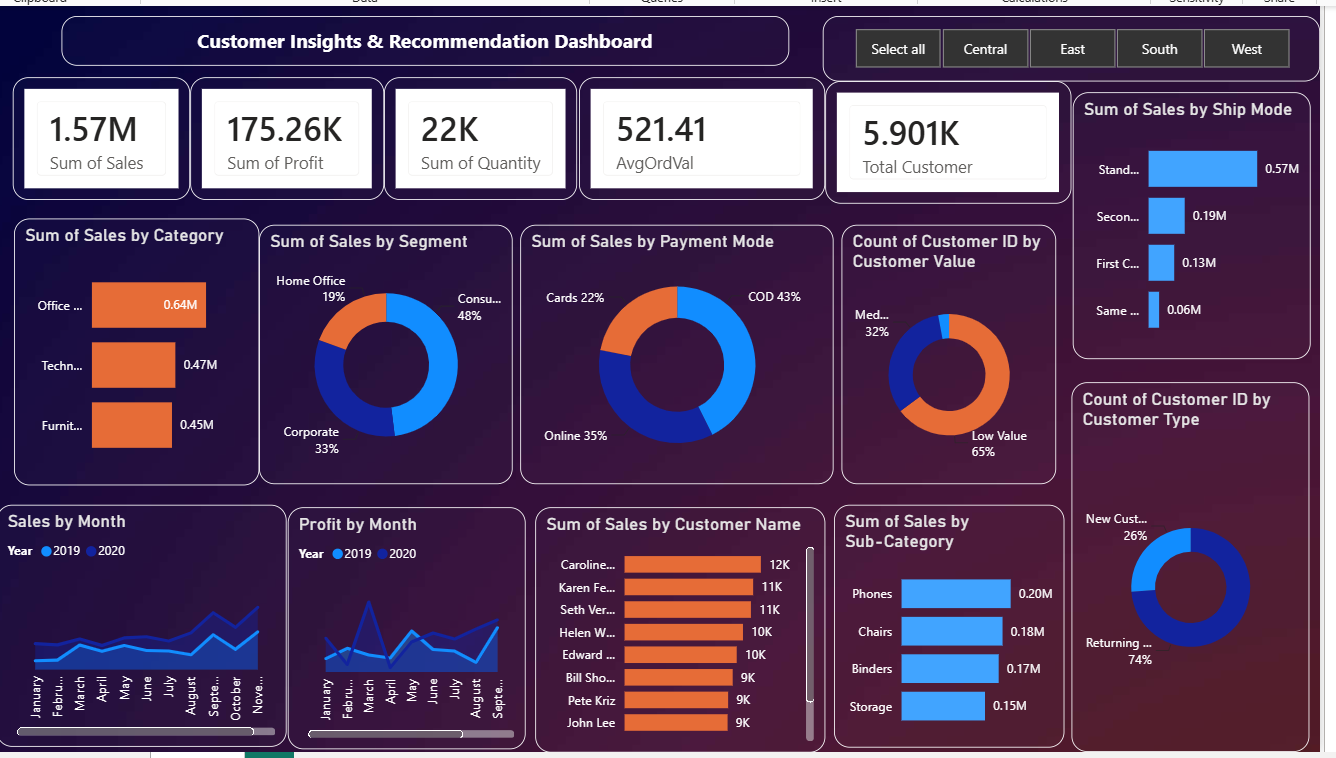

This screenshot's page, from the dashboard's own definition file:
{"tool":"powerbi","page":{"name":"Page 1","canvas":[1280,720],"ordinal":0},"visuals":[{"type":"clusteredBarChart","fields":{"Category":["SuperStore_Sales_Dataset.Category"],"Y":["Sum(SuperStore_Sales_Dataset.Sales)"]},"box":[19.6,204.5,236.7,257.7],"z":0},{"type":"clusteredBarChart","fields":{"Category":["SuperStore_Sales_Dataset.Sub-Category"],"Y":["Sum(SuperStore_Sales_Dataset.Sales)"]},"box":[811,481.6,222.3,234.6],"z":1000},{"type":"clusteredBarChart","fields":{"Category":["SuperStore_Sales_Dataset.Ship Mode"],"Y":["Sum(SuperStore_Sales_Dataset.Sales)"]},"box":[1040.8,82.6,229.7,257.7],"z":2000},{"type":"areaChart","title":" Sales by Month","fields":{"Y":["Sum(SuperStore_Sales_Dataset.Sales)"],"Category":["SuperStore_Sales_Dataset.Order Date.Variation.Date Hierarchy.Month","SuperStore_Sales_Dataset.Order Date.Variation.Date Hierarchy.Day"],"Series":["SuperStore_Sales_Dataset.Order Date.Variation.Date Hierarchy.Year"]},"box":[2.8,481.9,280.1,233.9],"z":3000},{"type":"areaChart","title":"Profit by Month ","fields":{"Category":["SuperStore_Sales_Dataset.Order Date.Variation.Date Hierarchy.Month","SuperStore_Sales_Dataset.Order Date.Variation.Date Hierarchy.Day"],"Series":["SuperStore_Sales_Dataset.Order Date.Variation.Date Hierarchy.Year"],"Y":["Sum(SuperStore_Sales_Dataset.Profit)"]},"box":[283,483.3,229.7,233.9],"z":4000},{"type":"donutChart","fields":{"Category":["SuperStore_Sales_Dataset.Segment"],"Y":["Sum(SuperStore_Sales_Dataset.Sales)"]},"box":[256.3,211.5,245.1,250.7],"z":5000},{"type":"donutChart","fields":{"Category":["SuperStore_Sales_Dataset.Payment Mode"],"Y":["Sum(SuperStore_Sales_Dataset.Sales)"]},"box":[508.5,211.5,302.6,250.7],"z":6000},{"type":"slicer","fields":{"Values":["SuperStore_Sales_Dataset.Region"]},"box":[800,9.6,480.3,63.1],"z":7000},{"type":"cardVisual","fields":{"Data":["Sum(SuperStore_Sales_Dataset.Sales)"]},"box":[18.1,68.8,171.3,118.2],"z":8000},{"type":"cardVisual","fields":{"Data":["Sum(SuperStore_Sales_Dataset.Profit)"]},"box":[189.4,68.8,187,118.2],"z":9000},{"type":"cardVisual","fields":{"Data":["Sum(SuperStore_Sales_Dataset.Quantity)"]},"box":[376,68.6,186.6,118],"z":10000},{"type":"cardVisual","fields":{"Data":["SuperStore_Sales_Dataset.AvgOrdVal"]},"box":[564.6,68.8,237.7,118.2],"z":11000},{"type":"cardVisual","fields":{"Data":["CountNonNull(SuperStore_Sales_Dataset.Customer Name)"]},"box":[802.7,72.7,237.4,118],"z":12000},{"type":"donutChart","fields":{"Category":["SuperStore_Sales_Dataset.Customer Type"],"Y":["CountNonNull(SuperStore_Sales_Dataset.Customer ID)"]},"box":[1039.4,362.8,229.7,357.2],"z":13000},{"type":"donutChart","fields":{"Category":["SuperStore_Sales_Dataset.Customer Value"],"Y":["CountNonNull(SuperStore_Sales_Dataset.Customer ID)"]},"box":[818,211.5,207.3,250.7],"z":13001},{"type":"clusteredBarChart","fields":{"Category":["SuperStore_Sales_Dataset.Customer Name"],"Y":["Sum(SuperStore_Sales_Dataset.Sales)"]},"box":[522.5,483.3,280.1,236.7],"z":13002},{"type":"textbox","box":[65.1,9.7,702.1,48.3],"z":13003}]}

Visuals, with their boxes in screenshot pixels (x1, y1, x2, y2):
clusteredBarChart - SuperStore_Sales_Dataset.Category x Sum(SuperStore_Sales_Dataset.Sales): l=20, t=217, r=264, b=483
clusteredBarChart - SuperStore_Sales_Dataset.Sub-Category x Sum(SuperStore_Sales_Dataset.Sales): l=835, t=503, r=1064, b=744
clusteredBarChart - SuperStore_Sales_Dataset.Ship Mode x Sum(SuperStore_Sales_Dataset.Sales): l=1071, t=92, r=1308, b=357
" Sales by Month" areaChart: l=3, t=503, r=291, b=744
"Profit by Month " areaChart: l=291, t=504, r=528, b=745
donutChart - SuperStore_Sales_Dataset.Segment x Sum(SuperStore_Sales_Dataset.Sales): l=264, t=225, r=516, b=483
donutChart - SuperStore_Sales_Dataset.Payment Mode x Sum(SuperStore_Sales_Dataset.Sales): l=523, t=225, r=835, b=483
slicer - SuperStore_Sales_Dataset.Region: l=823, t=17, r=1318, b=82
cardVisual - Sum(SuperStore_Sales_Dataset.Sales): l=19, t=78, r=195, b=199
cardVisual - Sum(SuperStore_Sales_Dataset.Profit): l=195, t=78, r=387, b=199
cardVisual - Sum(SuperStore_Sales_Dataset.Quantity): l=387, t=78, r=579, b=199
cardVisual - SuperStore_Sales_Dataset.AvgOrdVal: l=581, t=78, r=826, b=199
cardVisual - CountNonNull(SuperStore_Sales_Dataset.Customer Name): l=826, t=82, r=1071, b=203
donutChart - SuperStore_Sales_Dataset.Customer Type x CountNonNull(SuperStore_Sales_Dataset.Customer ID): l=1070, t=380, r=1306, b=748
donutChart - SuperStore_Sales_Dataset.Customer Value x CountNonNull(SuperStore_Sales_Dataset.Customer ID): l=842, t=225, r=1055, b=483
clusteredBarChart - SuperStore_Sales_Dataset.Customer Name x Sum(SuperStore_Sales_Dataset.Sales): l=538, t=504, r=826, b=748
textbox: l=67, t=17, r=790, b=67
